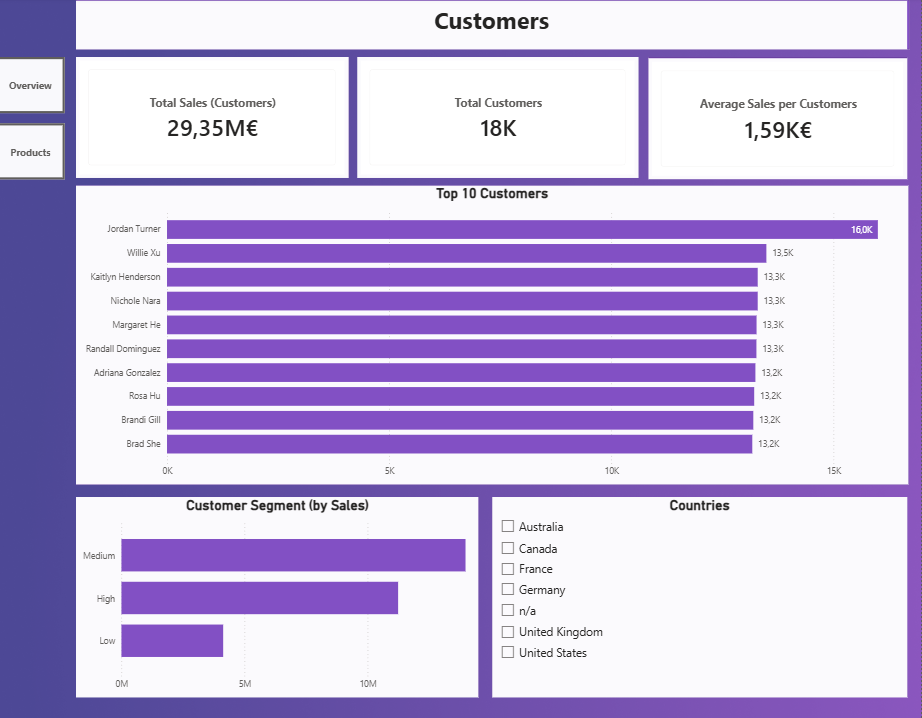

The page's visual inventory and layout, read from the dashboard file:
{"tool":"powerbi","page":{"name":"Customers","canvas":[1280,1000],"ordinal":2},"visuals":[{"type":"shape","box":[110.6,82.9,376.6,167.6],"z":0},{"type":"shape","box":[901.9,82.9,357.6,167.6],"z":1000},{"type":"shape","box":[511.4,82.9,364.5,167.6],"z":2000},{"type":"shape","box":[110.6,3.5,1152.4,69.1],"z":3000},{"type":"cardVisual","fields":{"Data":["Measures Table.Total quantity"]},"box":[580.9,274.9,277.4,167.9],"z":4000},{"type":"shape","box":[110.6,260.9,1150.7,412.9],"z":6000},{"type":"textbox","box":[110.6,5.2,1148.9,67.4],"z":7000},{"type":"cardVisual","fields":{"Data":["Measures Table.Total Sales (Customers)"]},"box":[110.6,82.9,376.6,167.6],"z":8000},{"type":"cardVisual","fields":{"Data":["Measures Table.Total Customers"]},"box":[499.3,82.9,388.7,167.6],"z":9000},{"type":"cardVisual","fields":{"Data":["Measures Table.AVG Sales per Customers"]},"box":[901.9,84.7,357.6,167.6],"z":10000},{"type":"clusteredBarChart","title":"Top 10 Customers","fields":{"Category":["vw_customer_sales_performance.customer_name"],"Y":["Sum(vw_customer_sales_performance.total_sales)"]},"box":[110.6,260.9,1150.7,412.9],"z":11000},{"type":"shape","box":[110.6,691.1,556.3,276.4],"z":12000},{"type":"shape","box":[685.9,691.1,573.6,276.4],"z":14000},{"type":"clusteredBarChart","title":"Customer Segment (by Sales)","fields":{"Category":["vw_customer_sales_performance.segmentation_by_sales"],"Y":["Sum(vw_customer_sales_performance.total_sales)"]},"box":[110.6,691.1,556.3,276.4],"z":14001},{"type":"slicer","title":"Countries","fields":{"Values":["vw_customer_sales_performance.country"]},"box":[685.9,691.1,573.6,276.4],"z":14002},{"type":"actionButton","box":[0,82.9,95,77.7],"z":14003},{"type":"actionButton","box":[0,174.5,95,77.7],"z":14004}]}

Visuals, with their boxes on the page's 1280x1000 design canvas (x1, y1, x2, y2). These are canvas units, not pixel positions in the 922x718 screenshot, which may show the page scaled, cropped or inside an application window:
shape: <box>111,83,487,250</box>
shape: <box>902,83,1260,250</box>
shape: <box>511,83,876,250</box>
shape: <box>111,4,1263,73</box>
cardVisual - Measures Table.Total quantity: <box>581,275,858,443</box>
shape: <box>111,261,1261,674</box>
textbox: <box>111,5,1260,73</box>
cardVisual - Measures Table.Total Sales (Customers): <box>111,83,487,250</box>
cardVisual - Measures Table.Total Customers: <box>499,83,888,250</box>
cardVisual - Measures Table.AVG Sales per Customers: <box>902,85,1260,252</box>
"Top 10 Customers" clusteredBarChart: <box>111,261,1261,674</box>
shape: <box>111,691,667,968</box>
shape: <box>686,691,1260,968</box>
"Customer Segment (by Sales)" clusteredBarChart: <box>111,691,667,968</box>
"Countries" slicer: <box>686,691,1260,968</box>
actionButton: <box>0,83,95,161</box>
actionButton: <box>0,174,95,252</box>
